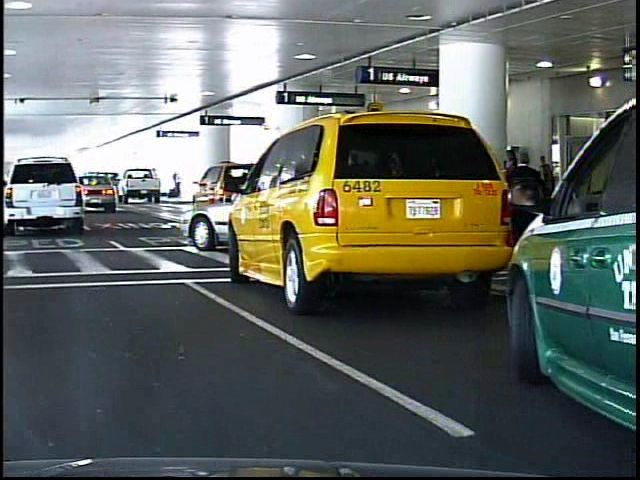person: (501, 149, 544, 285), (170, 169, 178, 198)
